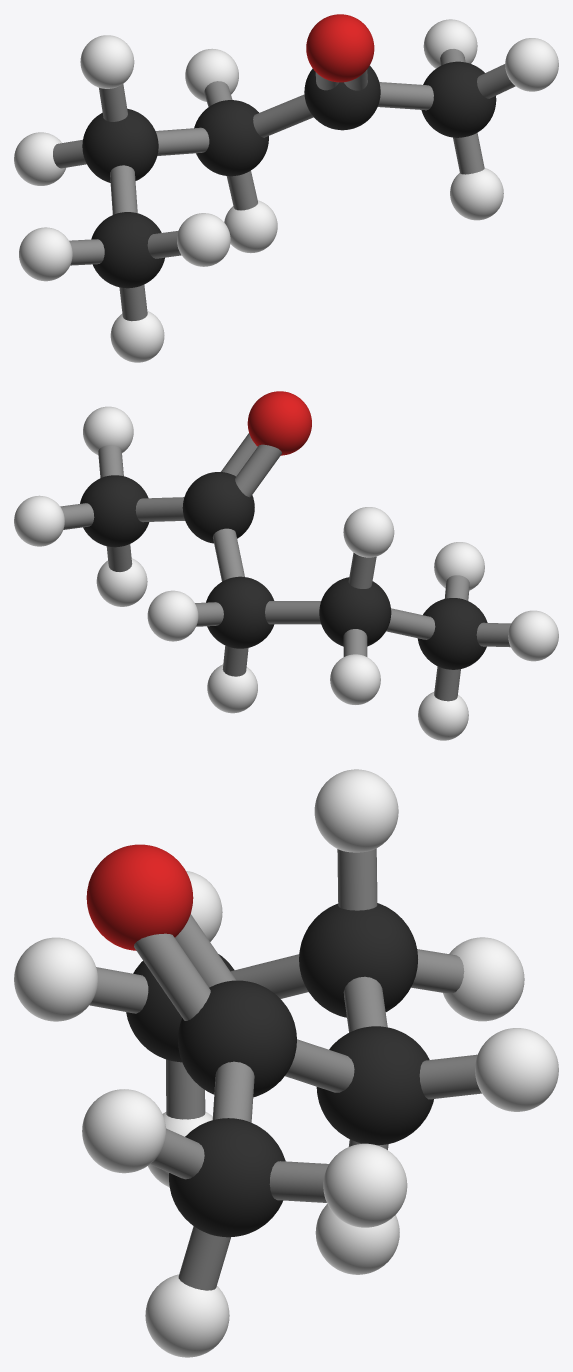
Rendered from pentan-2-on.glb.
The picture shows the model from 3 angles, top to bottom: view 1: azimuth 30°, elevation 25°; view 2: azimuth 150°, elevation 25°; view 3: azimuth 270°, elevation 25°; orthographic projection. The views are drawn at different scales.
Parts seen in each view (by area): view 1: C_2, C_5, C_1, C_0, O_4, C_3, H_8, H_13, H_7, H_9, H_14, H_6 (+17 smaller); view 2: C_3, C_0, C_5, C_2, C_1, O_4, H_11, H_9, H_8, H_15, H_10, H_6 (+20 smaller); view 3: C_5, C_3, C_2, C_1, O_4, H_15, H_7, H_13, H_11, H_9, H_14, H_10 (+18 smaller).
Part boxes in pixels (x1=…): C_2: x1=194, y1=100, x2=268, y2=176; C_5: x1=421, y1=61, x2=496, y2=137; C_1: x1=82, y1=109, x2=158, y2=182; C_0: x1=91, y1=212, x2=164, y2=288; O_4: x1=306, y1=14, x2=374, y2=82; C_3: x1=304, y1=66, x2=380, y2=130; H_8: x1=19, y1=227, x2=72, y2=281; H_13: x1=505, y1=38, x2=558, y2=91; H_7: x1=177, y1=213, x2=230, y2=266; H_9: x1=80, y1=35, x2=134, y2=88; H_14: x1=450, y1=168, x2=503, y2=220; H_6: x1=110, y1=311, x2=164, y2=362; C_3: x1=182, y1=472, x2=254, y2=543; C_0: x1=417, y1=598, x2=487, y2=669; C_5: x1=80, y1=475, x2=149, y2=547; C_2: x1=206, y1=576, x2=274, y2=648; C_1: x1=319, y1=577, x2=391, y2=646; O_4: x1=247, y1=391, x2=311, y2=455; H_11: x1=147, y1=590, x2=198, y2=641; H_9: x1=343, y1=507, x2=394, y2=557; H_8: x1=508, y1=610, x2=558, y2=661; H_15: x1=14, y1=495, x2=64, y2=546; H_10: x1=330, y1=654, x2=380, y2=704; H_6: x1=418, y1=692, x2=468, y2=740; C_5: x1=169, y1=1118, x2=285, y2=1237; C_3: x1=178, y1=980, x2=296, y2=1097; C_2: x1=316, y1=1026, x2=433, y2=1145; C_1: x1=299, y1=903, x2=417, y2=1017; O_4: x1=86, y1=844, x2=193, y2=950; H_15: x1=323, y1=1143, x2=407, y2=1227; H_7: x1=14, y1=937, x2=97, y2=1021; H_13: x1=82, y1=1089, x2=166, y2=1173; H_11: x1=475, y1=1028, x2=558, y2=1111; H_9: x1=314, y1=769, x2=398, y2=852; H_14: x1=145, y1=1274, x2=229, y2=1357; H_10: x1=443, y1=937, x2=524, y2=1021.
Size of the model in its own units: 6.62 by 3.78 by 3.89.
